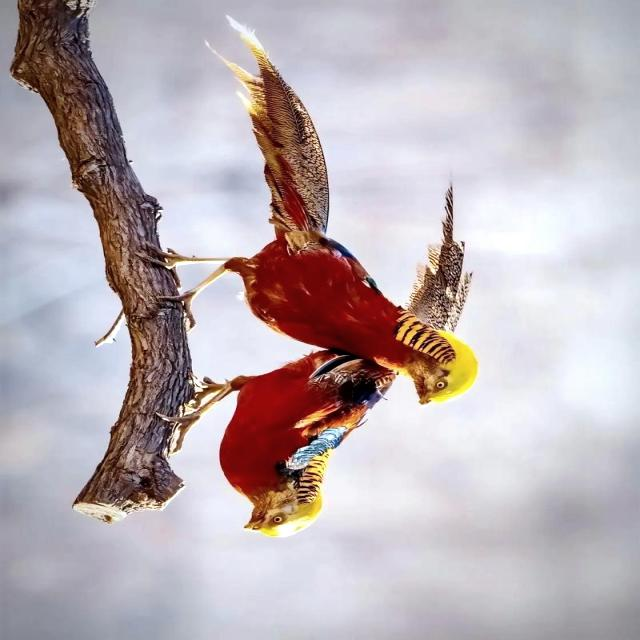Chrysolophus pictus feather: (205, 18, 330, 236)
